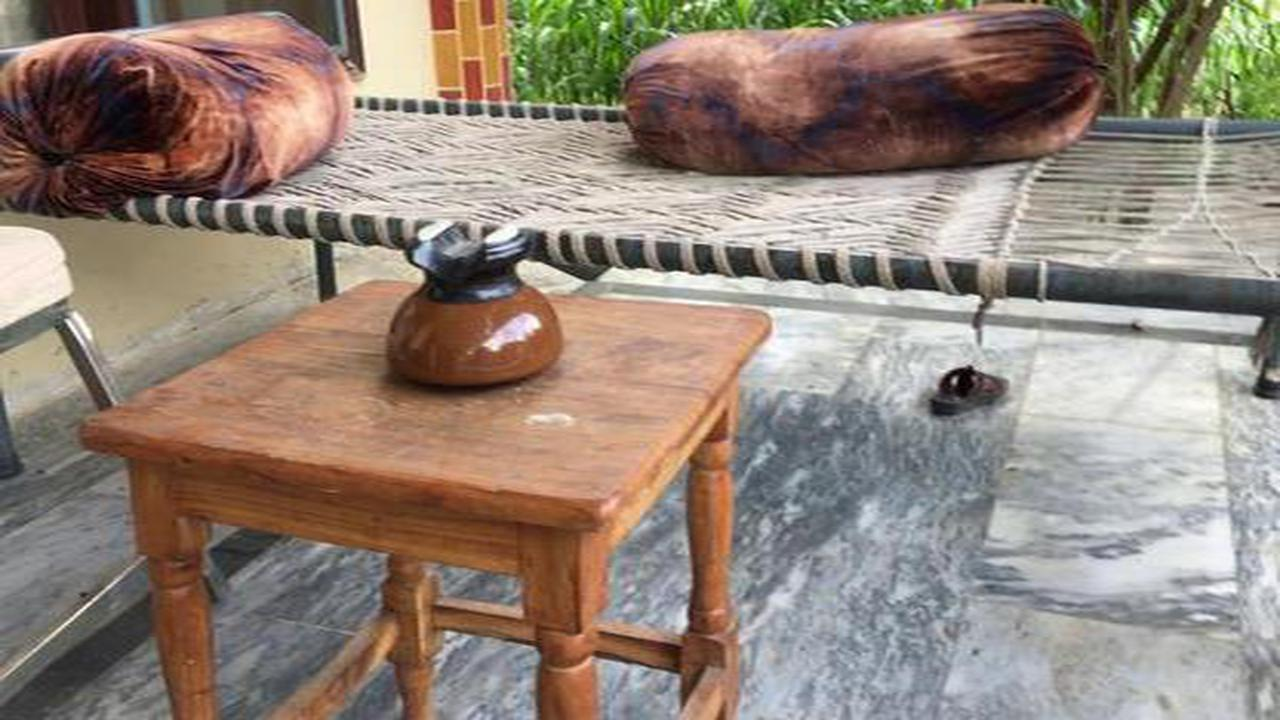insulator_pin: (373, 208, 582, 397)
